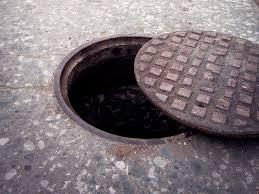open manhole-not overflowing-: (49, 23, 259, 175)
